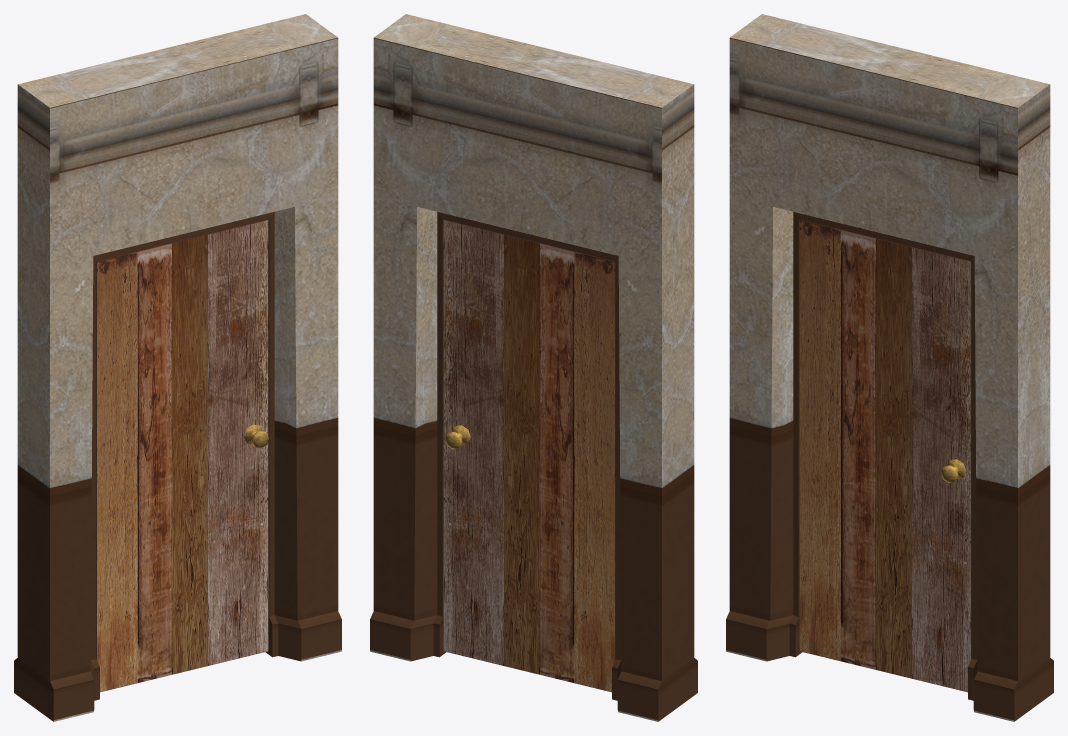
The model's file is Door_Servants.fbx.
3 views of the same model, side by side, from view 1: azimuth 30°, elevation 25°; view 2: azimuth 150°, elevation 25°; view 3: azimuth 330°, elevation 25° (orthographic).
Visible parts, largest first — view 1: Wall_servants_Short.001, Door; view 2: Wall_servants_Short.001, Door; view 3: Wall_servants_Short.001, Door.
Boxes of the visible parts, x1,y1,x2,y2 form: Wall_servants_Short.001: (14,14,341,721); Door: (97,220,268,692); Wall_servants_Short.001: (370,14,697,721); Door: (443,220,614,692); Wall_servants_Short.001: (726,14,1053,721); Door: (799,220,970,692).
Size of the model in its own units: 183 by 371 by 43.51.
